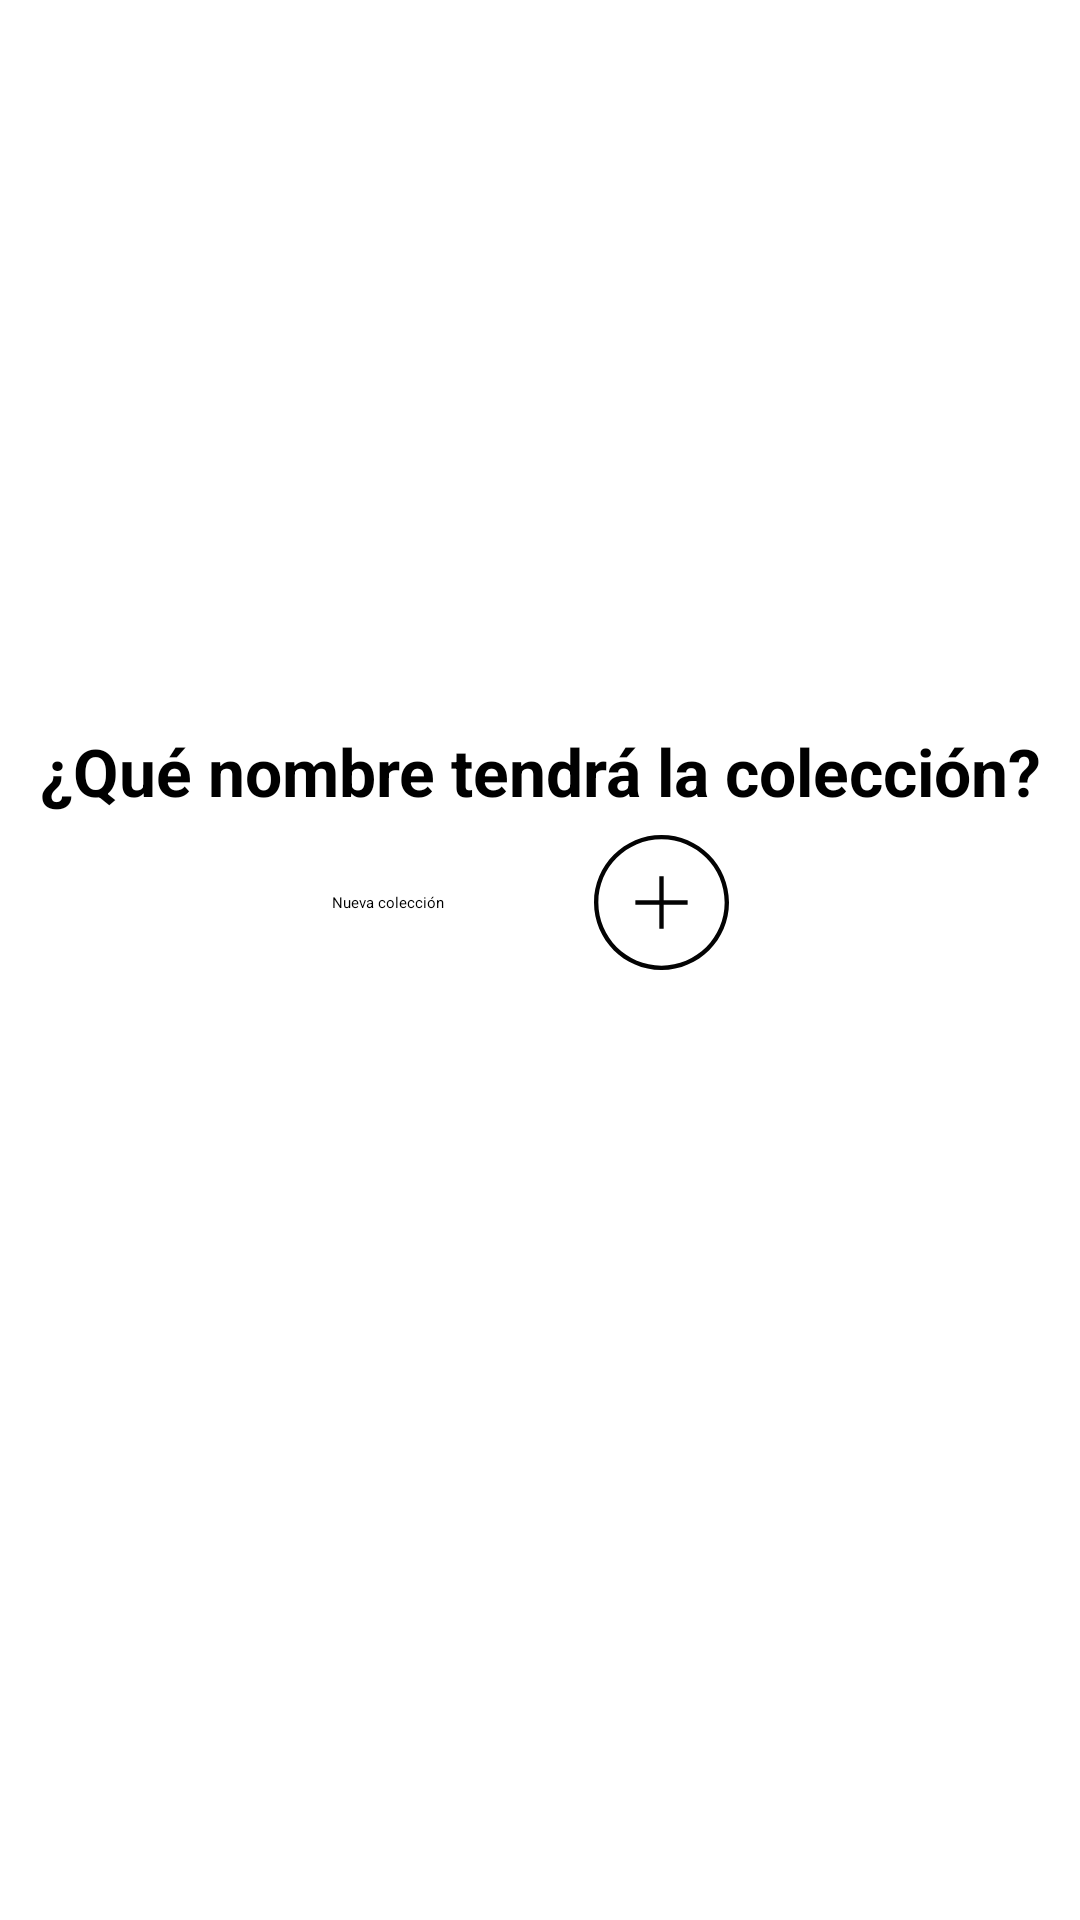

Named icons in this screenshot (1080w x 1920h) and their centers, point (x, y):
add: point (661, 902)
